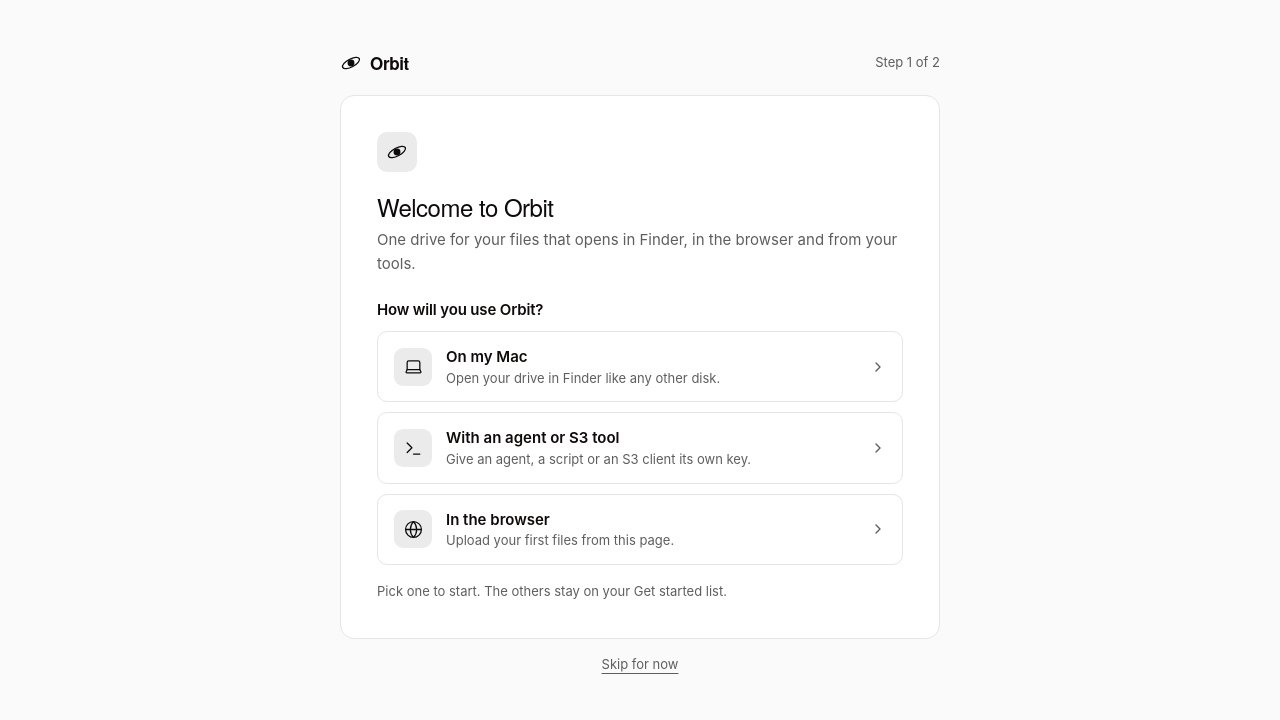
Test: welcome question › can be skipped, which goes to the files and leaves every step on the Get started list
This screenshot has width=1280, height=720.
Click the button "Skip for now" at (640, 664), box [602,655,678,673]
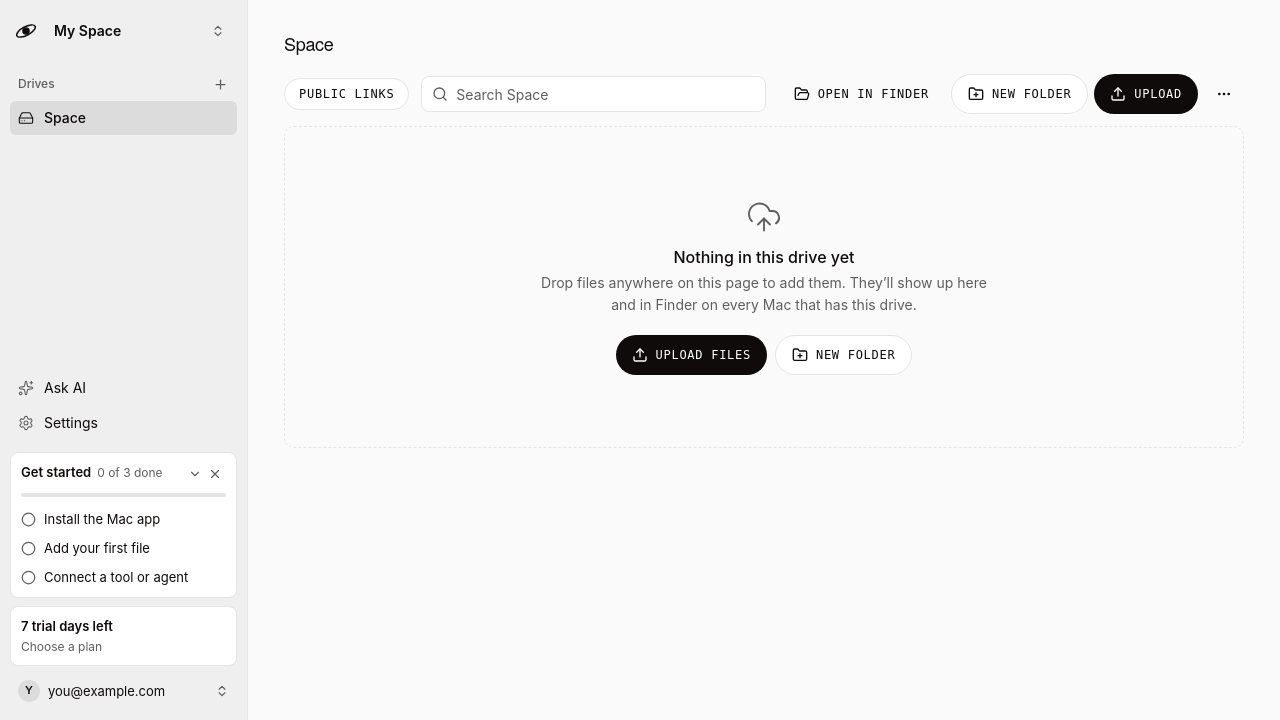
Result: the navigation bar named "Main navigation" is shown at [10,62,237,440]
Result: the element "Get started" shows "0 of 3 done" at [10,452,237,598]
Result: the heading "Welcome to Orbit" is gone
